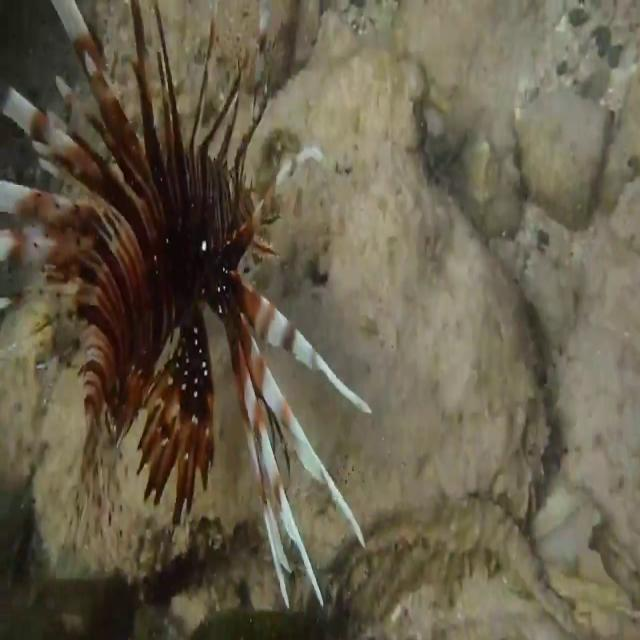Aslan Baligi: (1, 1, 374, 613)
